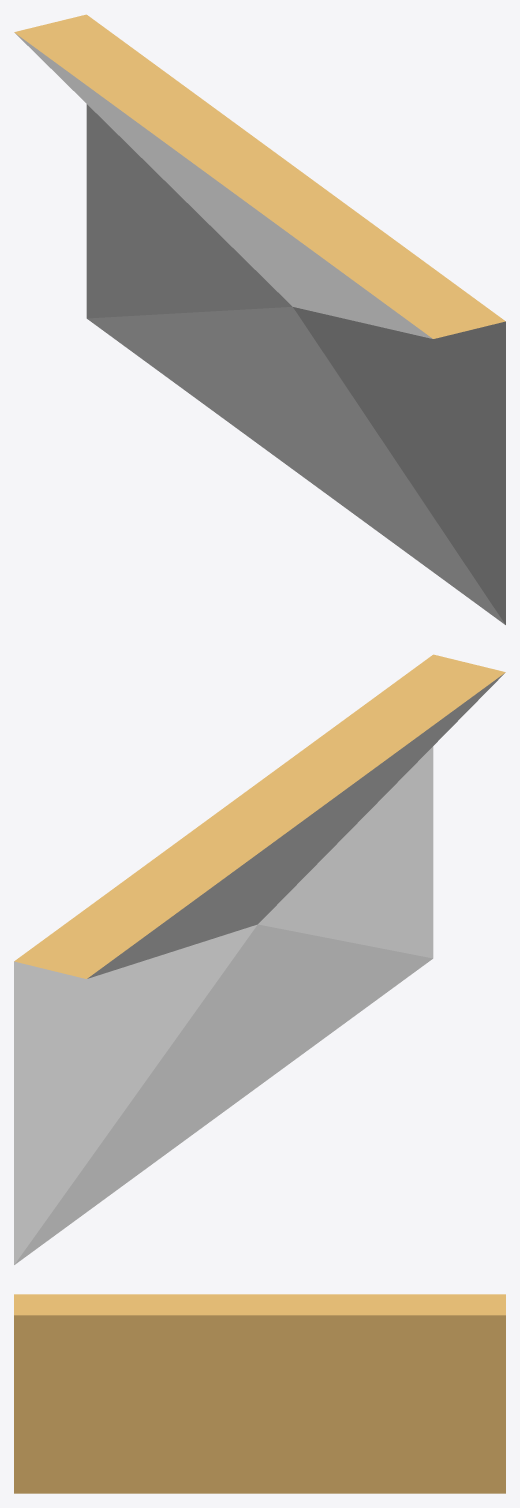
The picture shows the model from 3 angles, top to bottom: view 1: azimuth 30°, elevation 25°; view 2: azimuth 150°, elevation 25°; view 3: azimuth 270°, elevation 25°; orthographic projection. The views are drawn at different scales.
Bounding box in the file's own units: 0.1 × 0.4 × 1.
